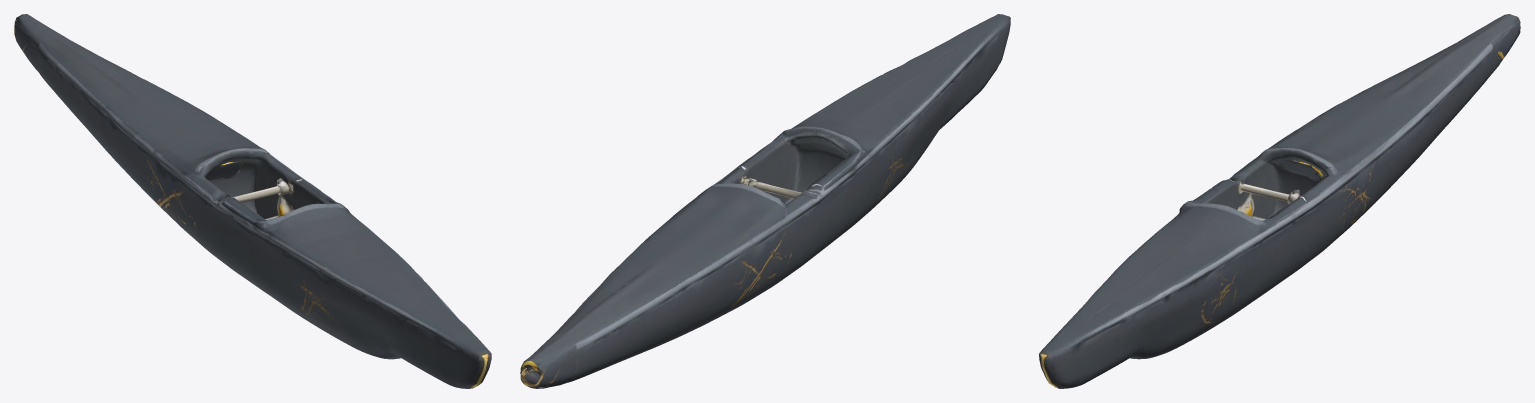
Rendered from scull-amber.glb.
3 renders of one model, left to right at view 1: azimuth 30°, elevation 25°; view 2: azimuth 150°, elevation 25°; view 3: azimuth 330°, elevation 25°, orthographic. The views are drawn at different scales.
Parts seen in each view (by area): view 1: tripo_node_f6a96799-d97b-435c-aa88-4a740bc5fa56; view 2: tripo_node_f6a96799-d97b-435c-aa88-4a740bc5fa56; view 3: tripo_node_f6a96799-d97b-435c-aa88-4a740bc5fa56.
Part boxes in pixels (<box>): tripo_node_f6a96799-d97b-435c-aa88-4a740bc5fa56: <box>14,14,491,388</box>; tripo_node_f6a96799-d97b-435c-aa88-4a740bc5fa56: <box>520,14,1010,388</box>; tripo_node_f6a96799-d97b-435c-aa88-4a740bc5fa56: <box>1039,14,1520,388</box>.
Size of the model in its own units: 0.1095 by 0.1242 by 0.9832.
1 material, 1 textured.
